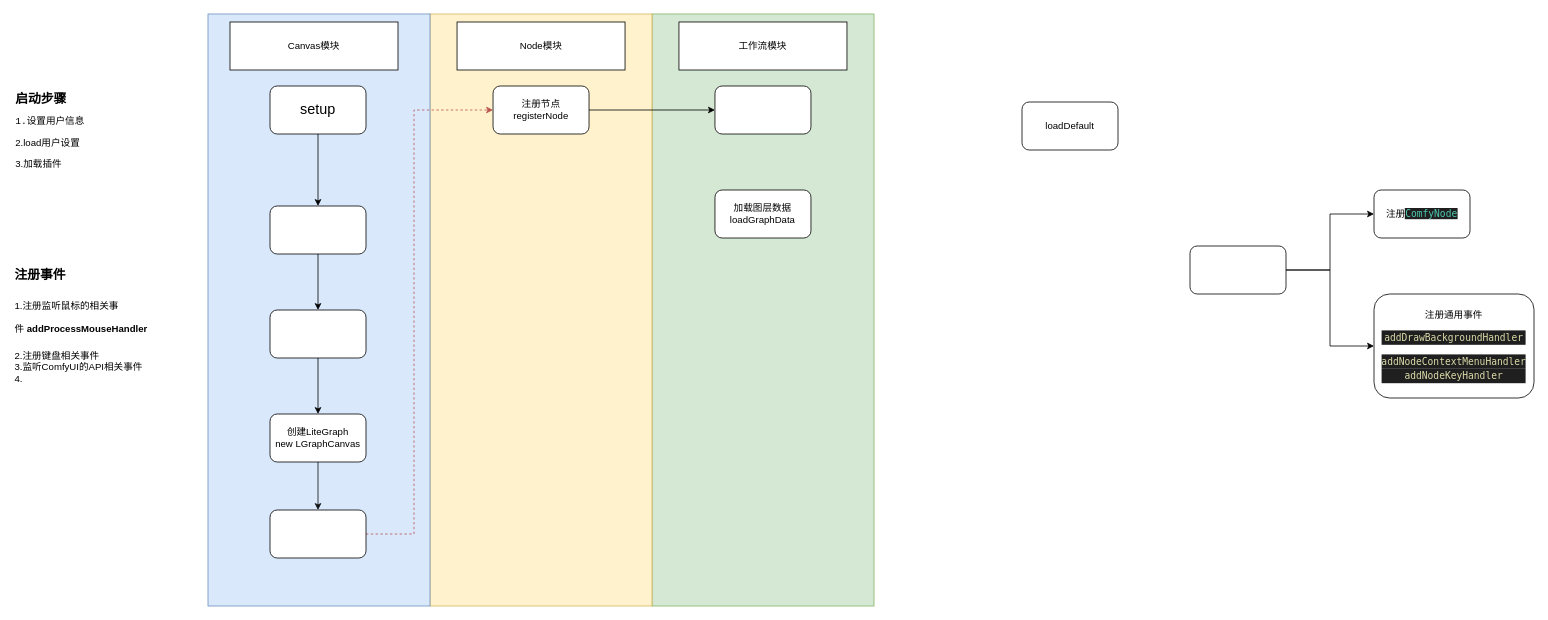
Image size: 1548x620. Some labels were removed from this diagram. The box of each missing label's shape, as (x1, y1, x2, y2) in pixels:
registerNodeDef: (1189, 245, 1286, 294)
创建canvas: (269, 205, 366, 254)
加载工作流 loadWorkflow: (714, 85, 811, 134)
启动LiteGraph LGraphCanvas.start: (269, 509, 366, 558)
注册各种事件: (269, 309, 366, 358)
